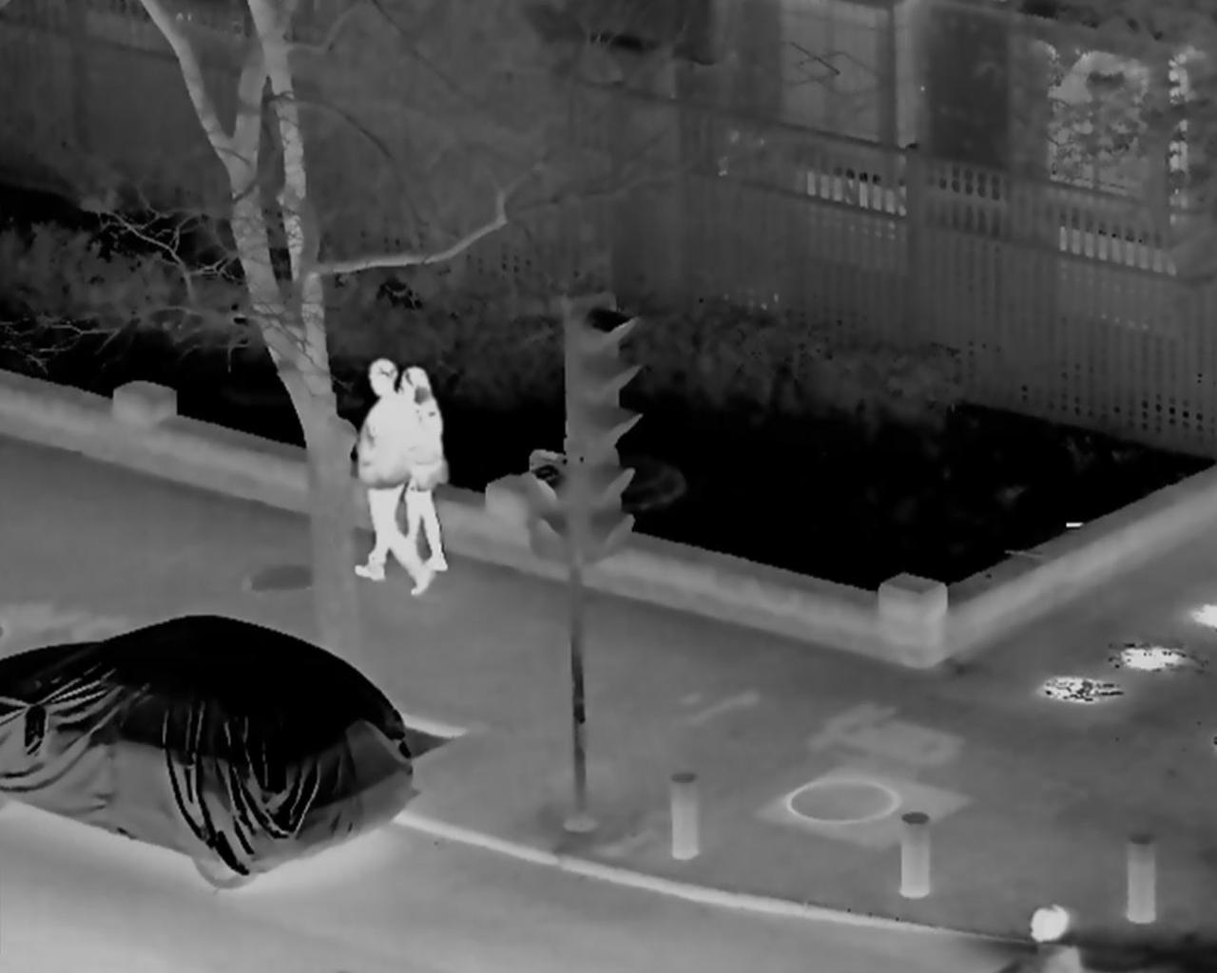person: (349, 362, 435, 592), (388, 366, 452, 575), (1003, 903, 1087, 973)
